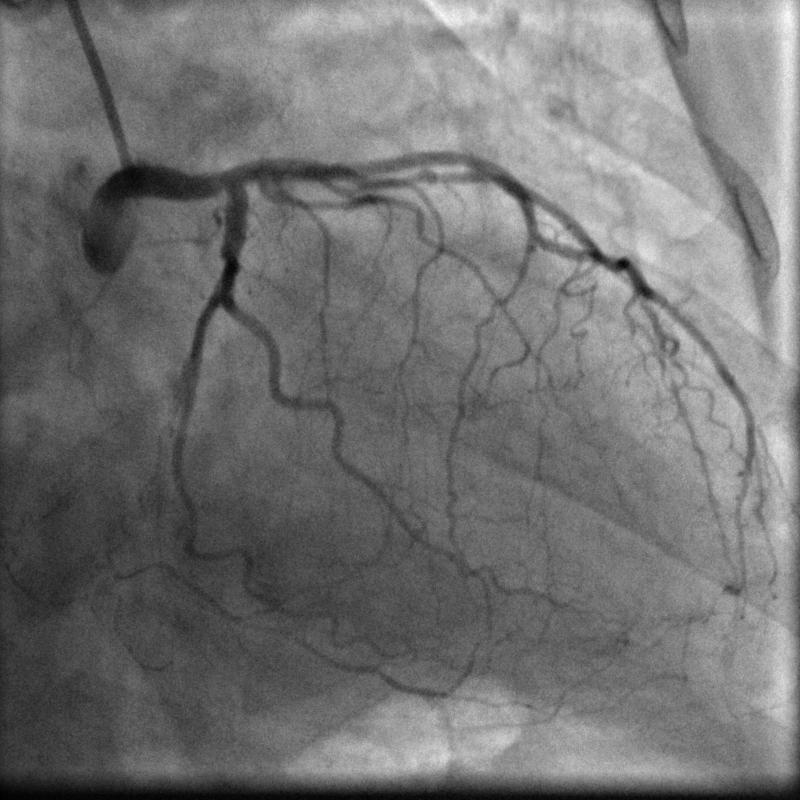Stenosis: (394, 165, 483, 190)
